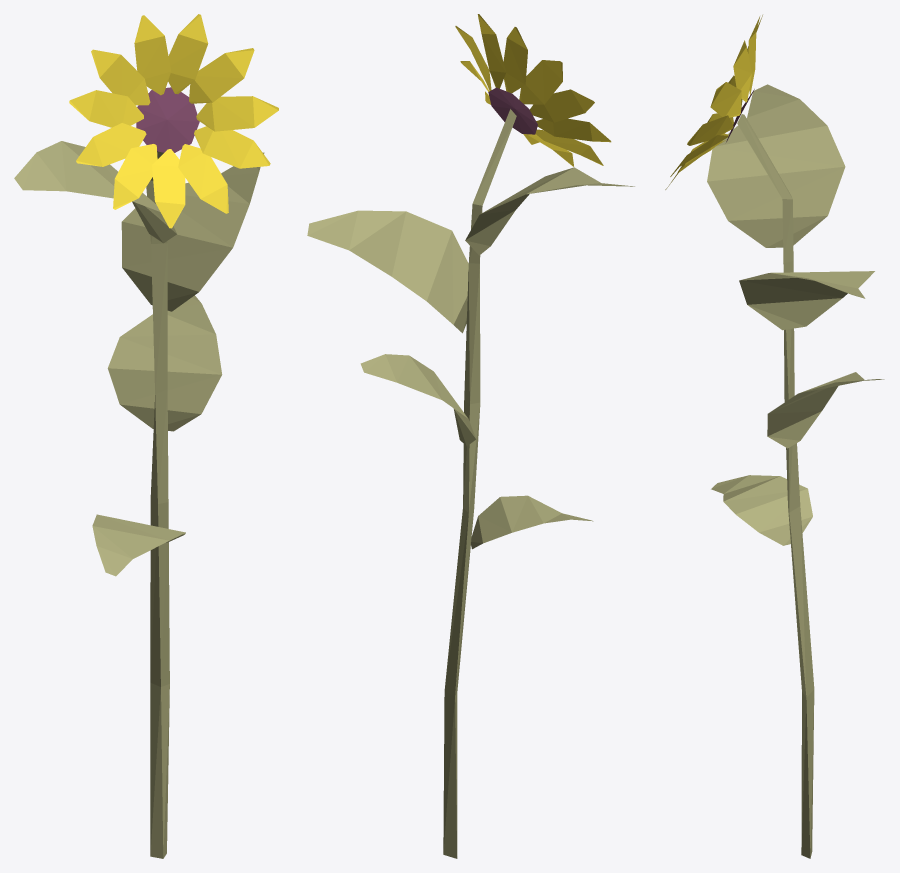
The model's file is HelianthusAnnuus.glb.
3 views of the same model, side by side, from view 1: azimuth 30°, elevation 25°; view 2: azimuth 150°, elevation 25°; view 3: azimuth 270°, elevation 25° (orthographic). The views are drawn at different scales.
Parts seen in each view (by area): view 1: Trunk, Crown, Seeds; view 2: Trunk, Crown, Seeds; view 3: Trunk, Crown.
Part boxes in pixels (left/top/right/bottom): Trunk: left=14, top=141, right=264, bottom=858; Crown: left=69, top=14, right=278, bottom=228; Seeds: left=136, top=87, right=199, bottom=152; Trunk: left=307, top=109, right=634, bottom=858; Crown: left=455, top=14, right=611, bottom=166; Seeds: left=488, top=87, right=537, bottom=134; Trunk: left=707, top=84, right=884, bottom=858; Crown: left=665, top=15, right=762, bottom=189.
Size of the model in its own units: 0.8224 by 2.31 by 0.5636.
